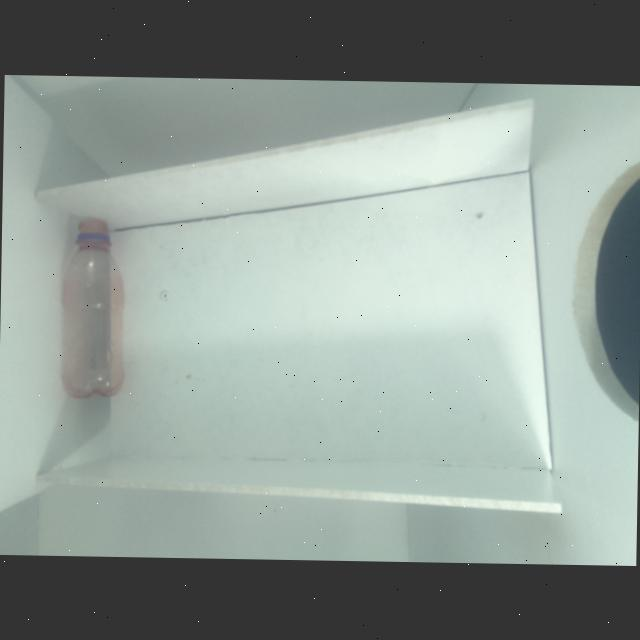trash: (56, 214, 128, 402)
